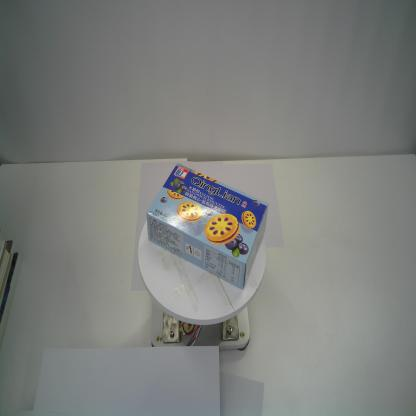Dessert: (146, 162, 269, 290)
